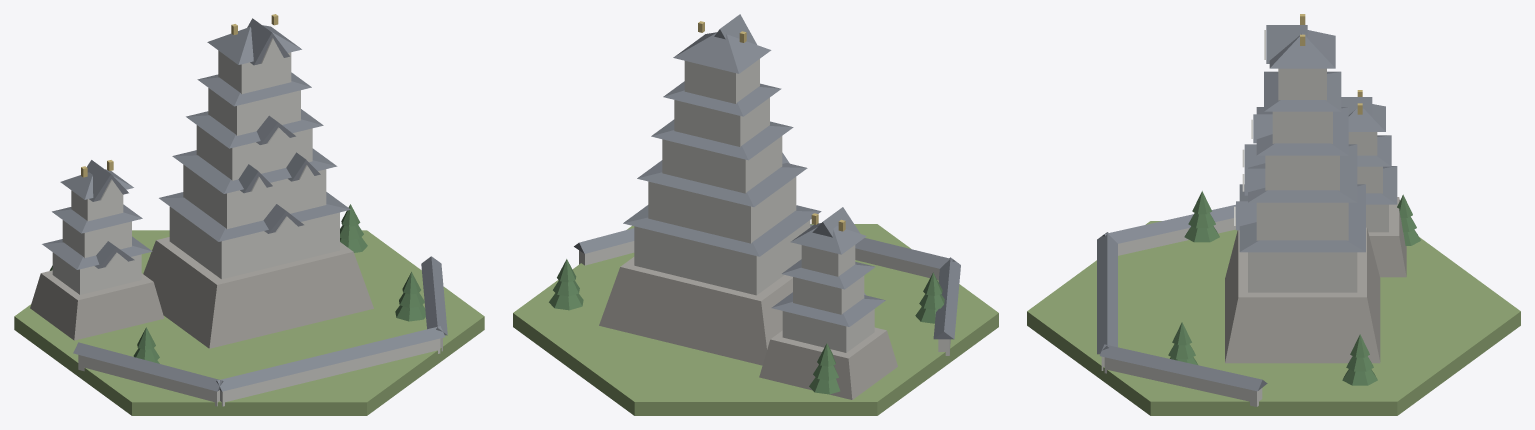
File: himeji-castle.glb
3 views of the same model, side by side, from view 1: azimuth 30°, elevation 25°; view 2: azimuth 150°, elevation 25°; view 3: azimuth 270°, elevation 25° (orthographic). The views are drawn at different scales.
Visible parts, largest first — view 1: LOD0; view 2: LOD0; view 3: LOD0.
Boxes of the visible parts, x1=… form: LOD0: x1=14, y1=14, x2=484, y2=415; LOD0: x1=513, y1=14, x2=998, y2=415; LOD0: x1=1027, y1=14, x2=1520, y2=415.
Size of what is drawn, in the model's own units: 1.56 by 1.19 by 1.72.
